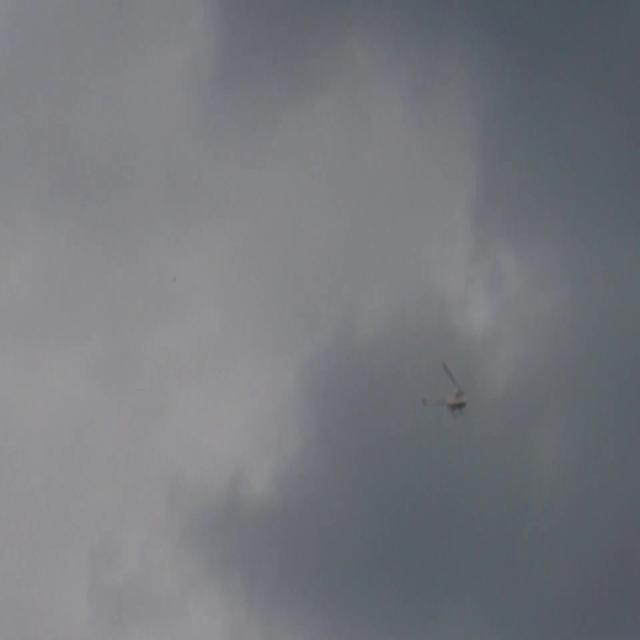CIV_HELO: (422, 385, 468, 420)
